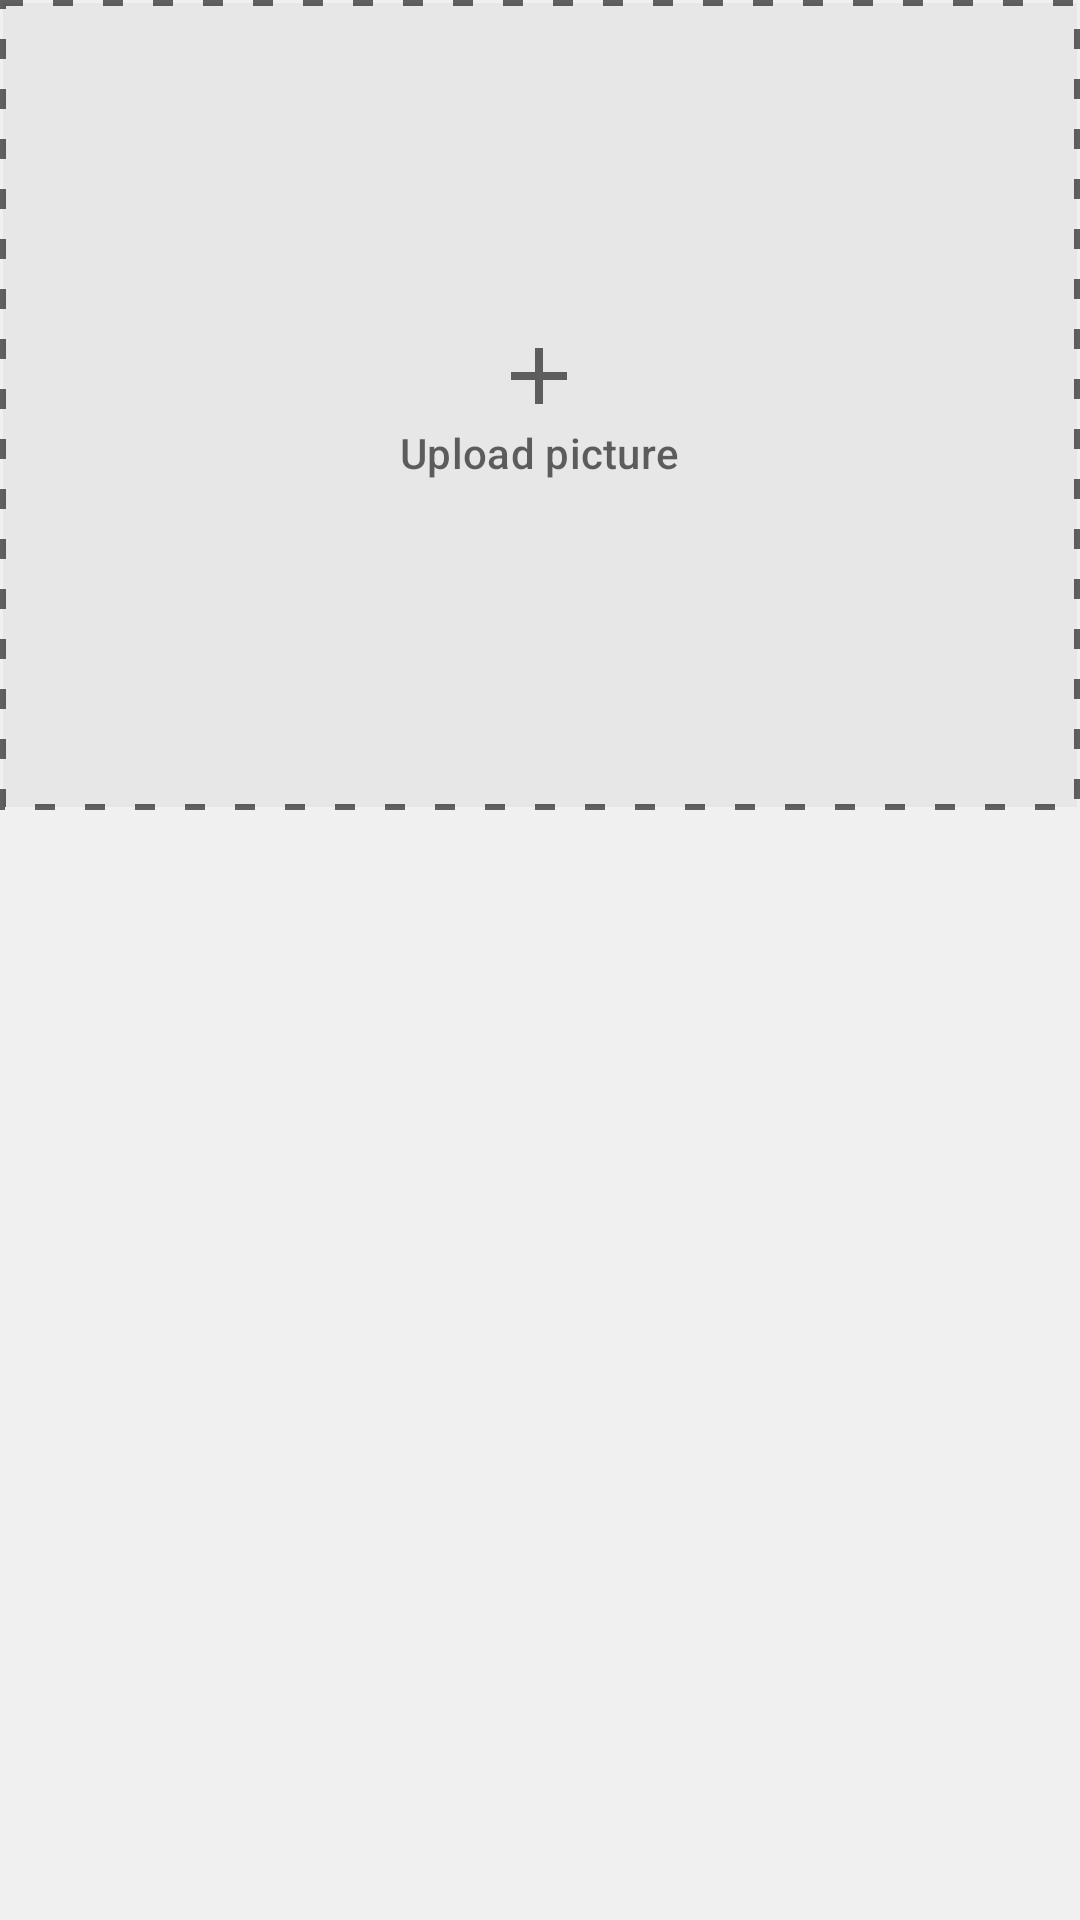

Locate icon controls on the screen. Image size 1080px x 1920px, boxes as [x1, y1, x2, y2].
add: [511, 348, 567, 404]
